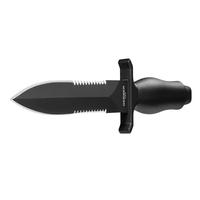knife: (12, 56, 196, 135)
